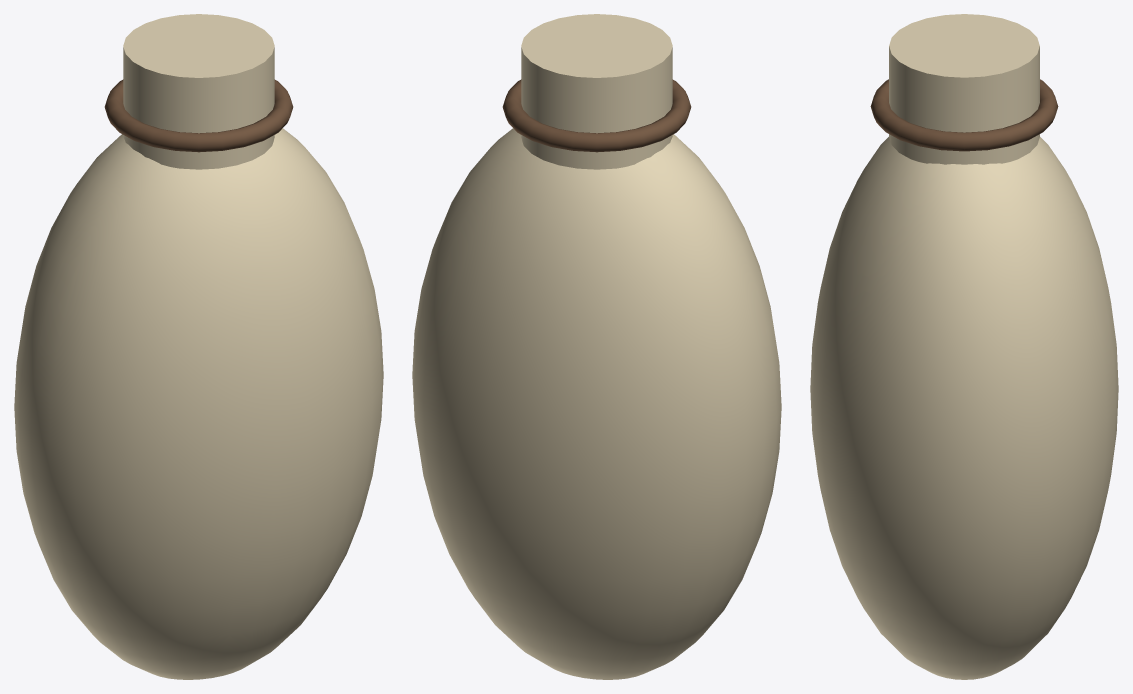
Rendered from adventurers-tavern-and-guild-hall-flour-sack-47b32dba__24729.glb.
The picture shows the model from 3 angles, left to right: view 1: azimuth 30°, elevation 25°; view 2: azimuth 150°, elevation 25°; view 3: azimuth 270°, elevation 25°; orthographic projection.
Visible parts, largest first — view 1: flour-sack; view 2: flour-sack; view 3: flour-sack.
Boxes of the visible parts, bbox=[...] form: flour-sack: bbox=[14, 14, 383, 679]; flour-sack: bbox=[412, 14, 781, 679]; flour-sack: bbox=[810, 14, 1118, 679].
Bounding box in the file's own units: 0.46 × 0.82 × 0.368.
